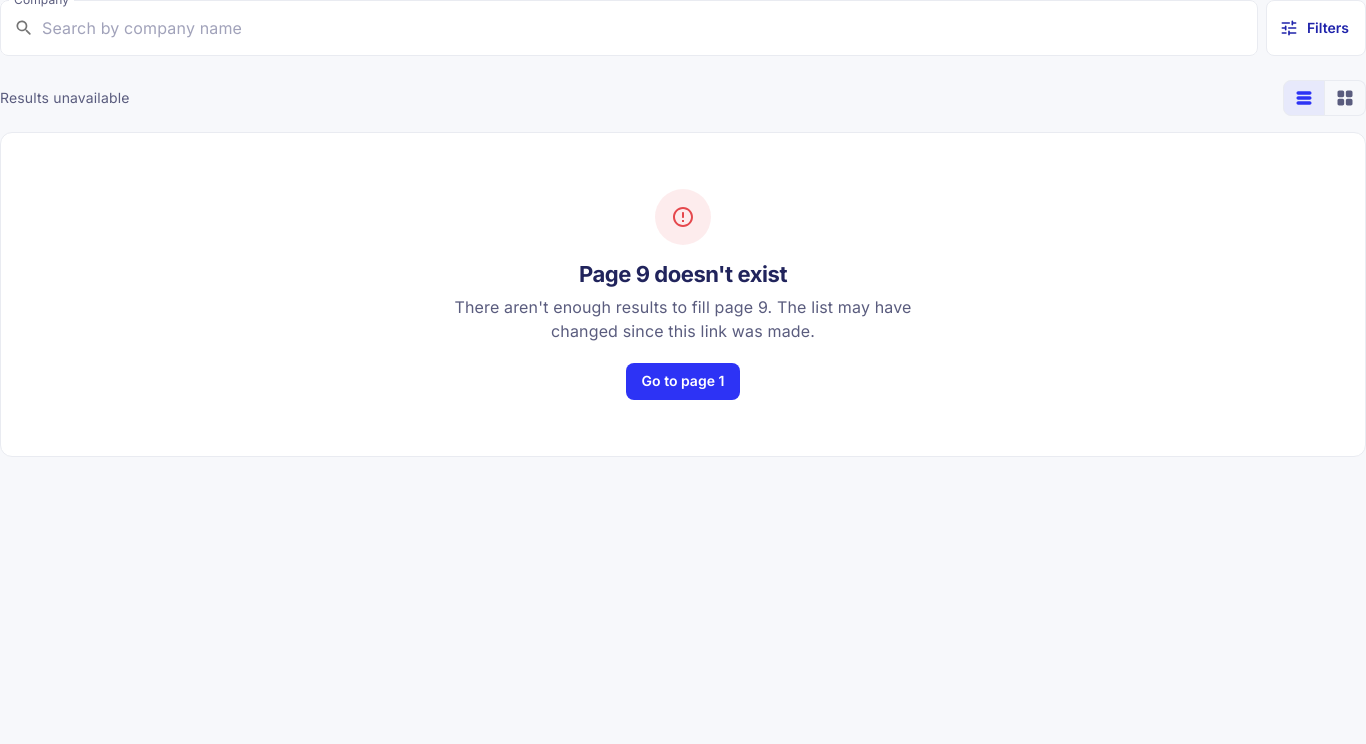
Test: SubmissionsWorkspace › offers page 1 when the page in the URL no longer exists
Expected: the heading "Page 9 doesn't exist" is shown, [579,261,787,287]
Click the button "Go to page 1" at coordinates (683, 382), box [626,363,740,400]
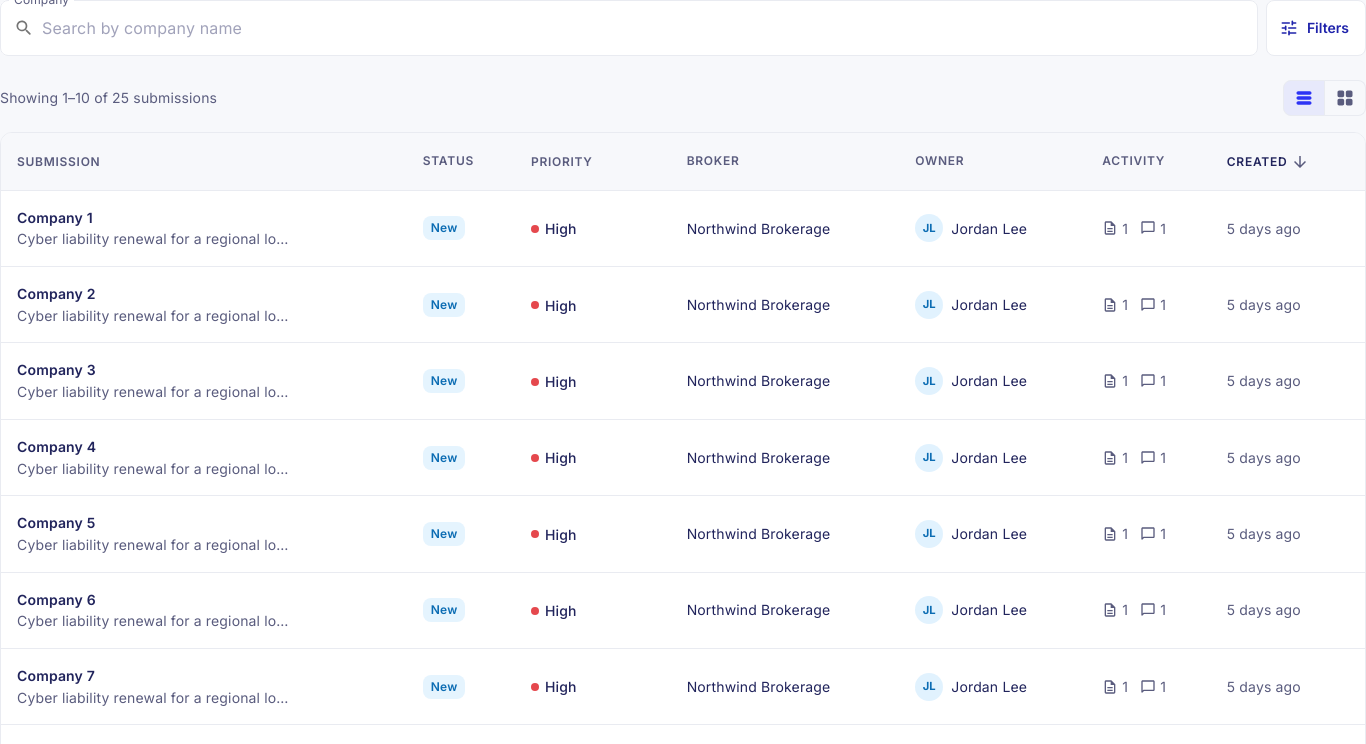
Now the link "Company 1" is shown, box [17,207,93,228]
